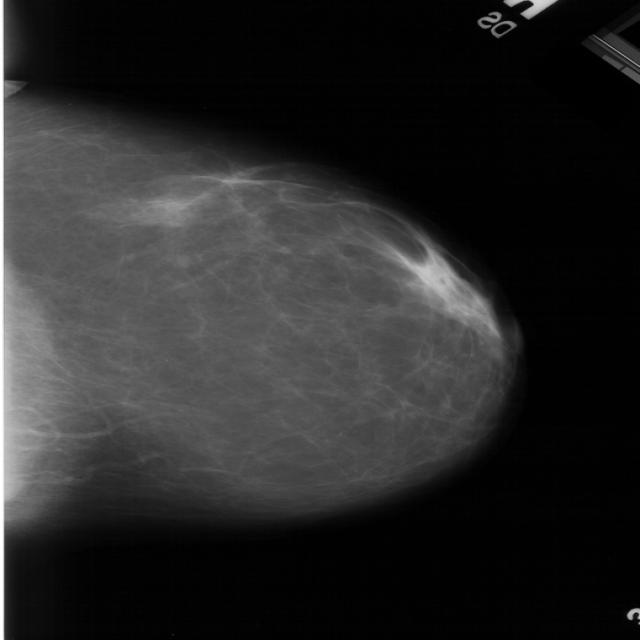tumour: (127, 196, 189, 226)
